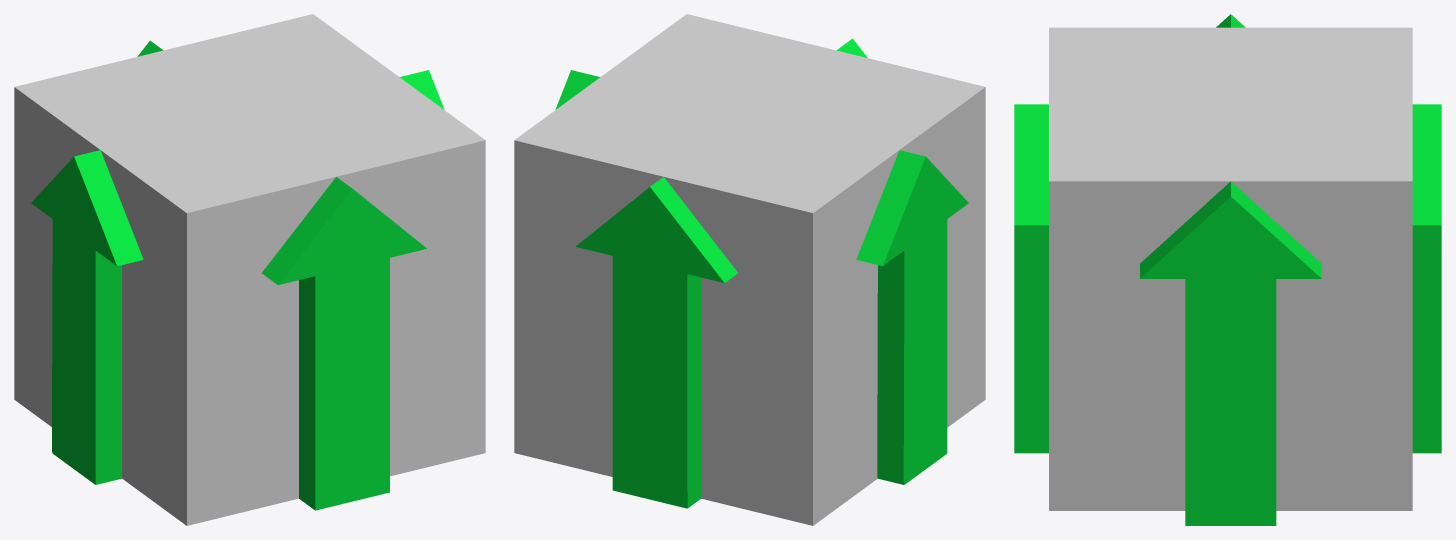
3 views of the same model, side by side, from view 1: azimuth 30°, elevation 25°; view 2: azimuth 150°, elevation 25°; view 3: azimuth 270°, elevation 25° (orthographic). The views are drawn at different scales.
Visible parts, largest first — view 1: Cube; view 2: Cube; view 3: Cube.
Boxes of the visible parts, bbox=[...] form: Cube: bbox=[14, 14, 485, 525]; Cube: bbox=[514, 14, 985, 525]; Cube: bbox=[1014, 14, 1441, 525].
Size of the model in its own units: 475 by 400 by 470.
